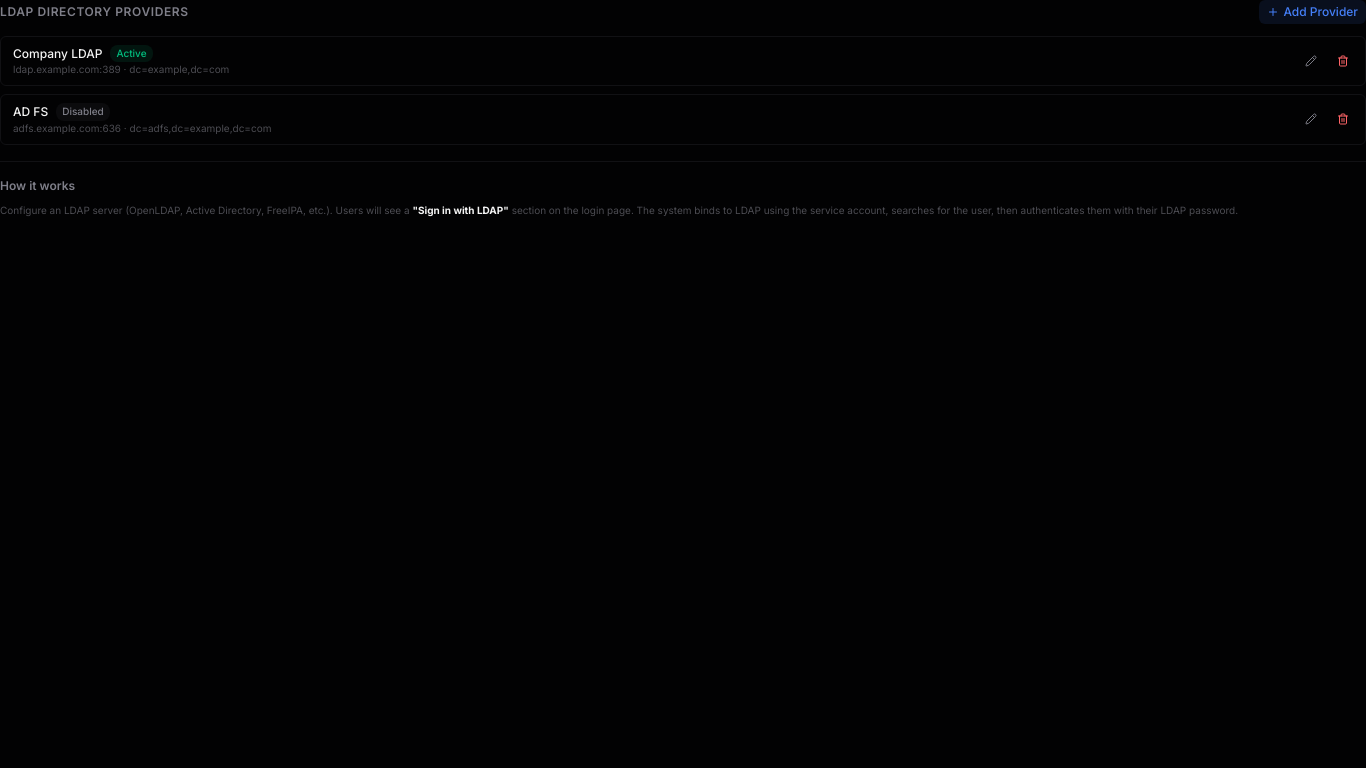
LdapSettings › opens add dialog when Add Provider clicked
The image size is (1366, 768).
Expected: the text "Company LDAP" is shown, [13,46,102,61]
Click the button "Add Provider".
click(1313, 12)  # box [1259,0,1365,24]
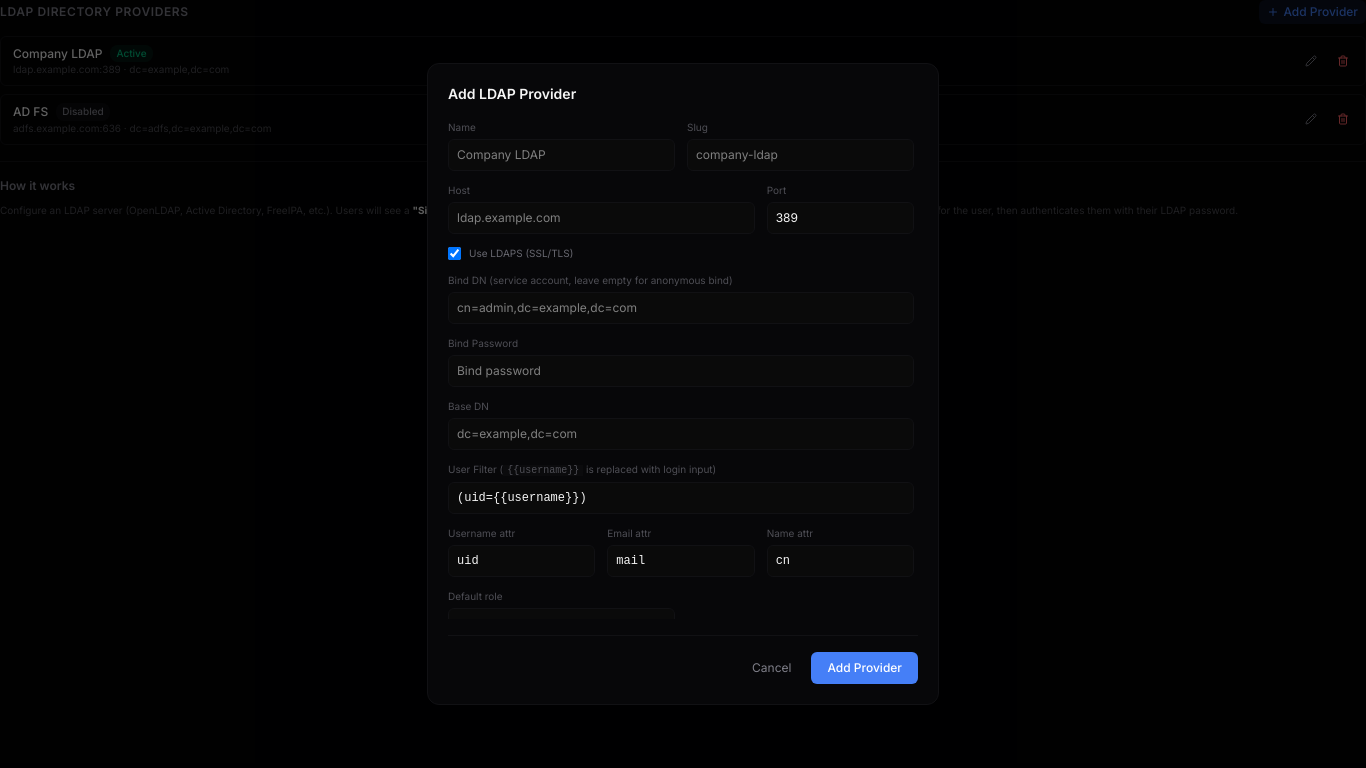
Result: the heading "Add LDAP Provider" is shown at [448,85,576,102]
Result: the field with placeholder "Company LDAP" is shown at [448,139,675,171]
Result: the field with placeholder "ldap.example.com" is shown at [448,202,755,234]
